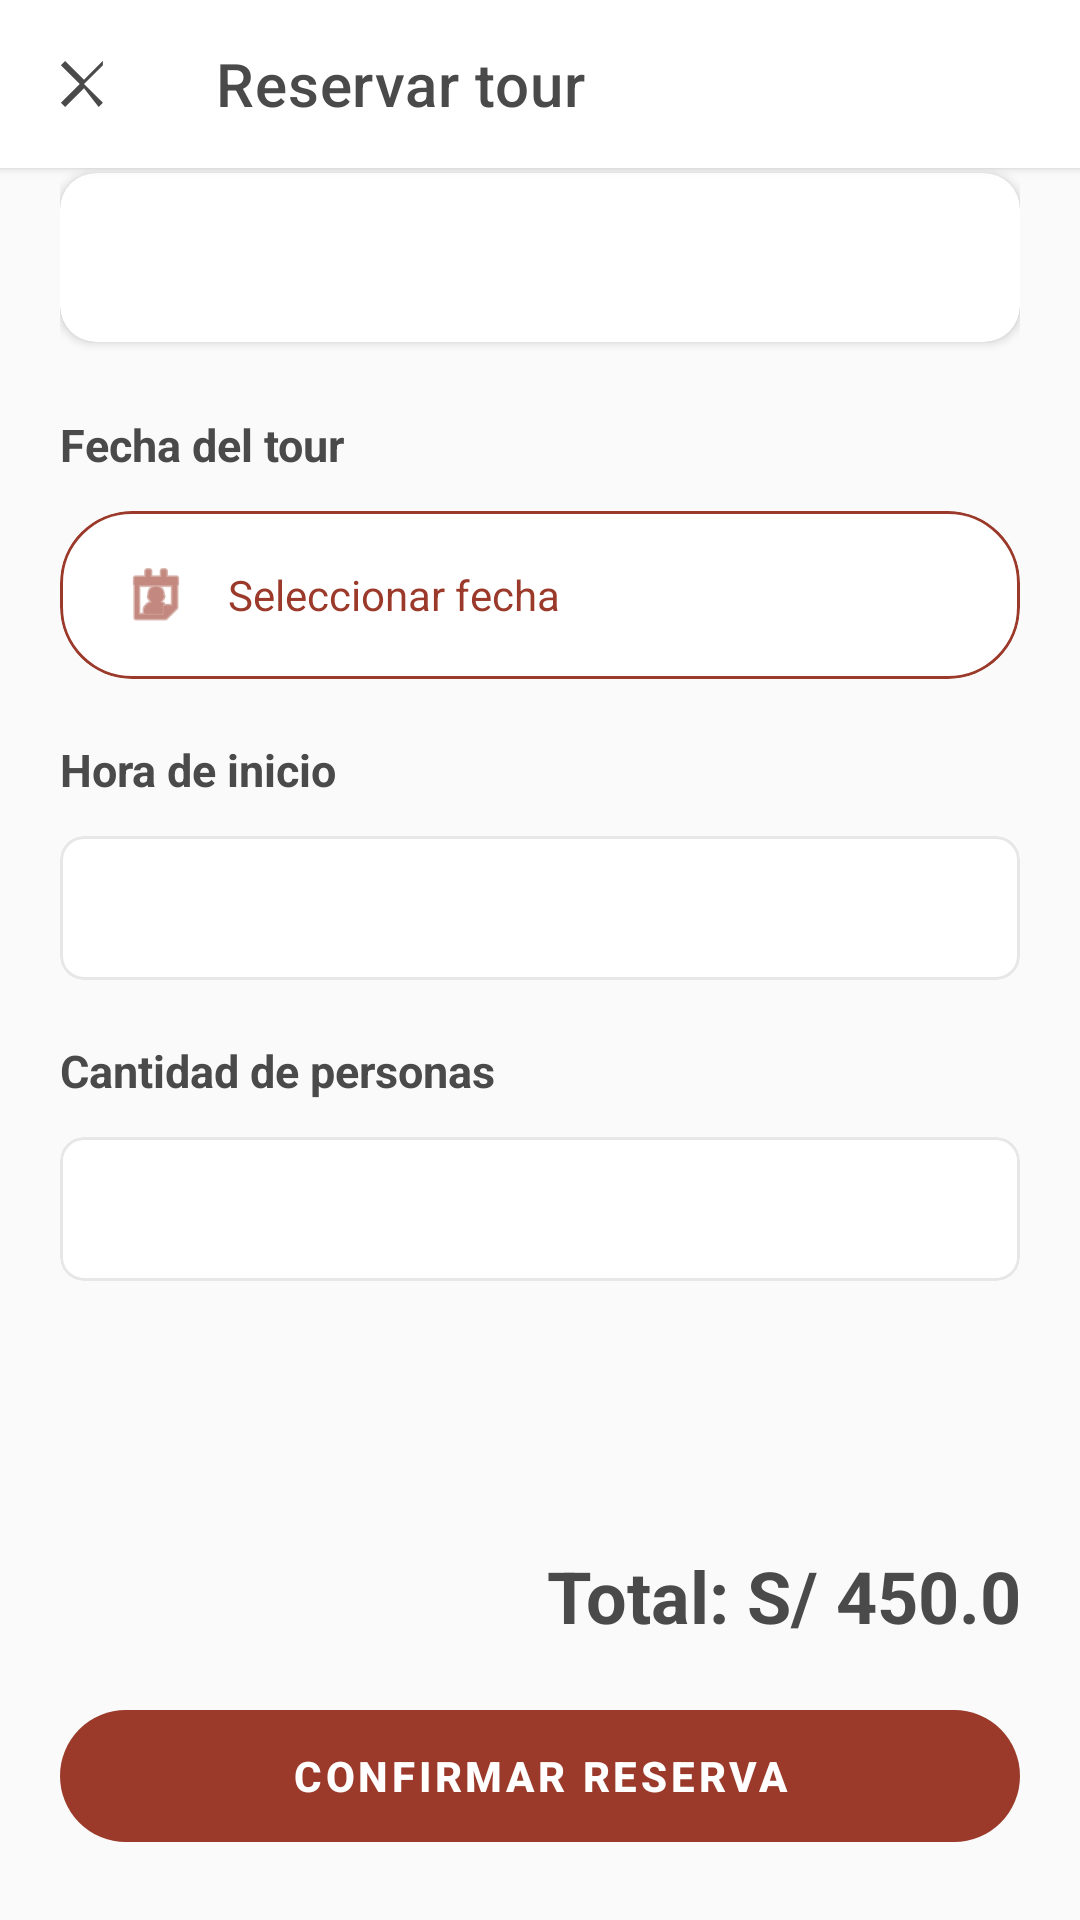

Point at icon controls on the screen. Image size 1080 × 1920, points as [x,y].
calendar: [156,594]
